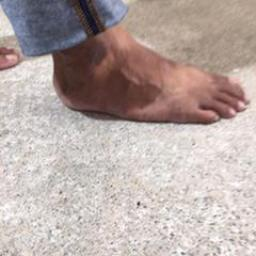Lateral View -Right Foot-: (39, 10, 253, 145)
